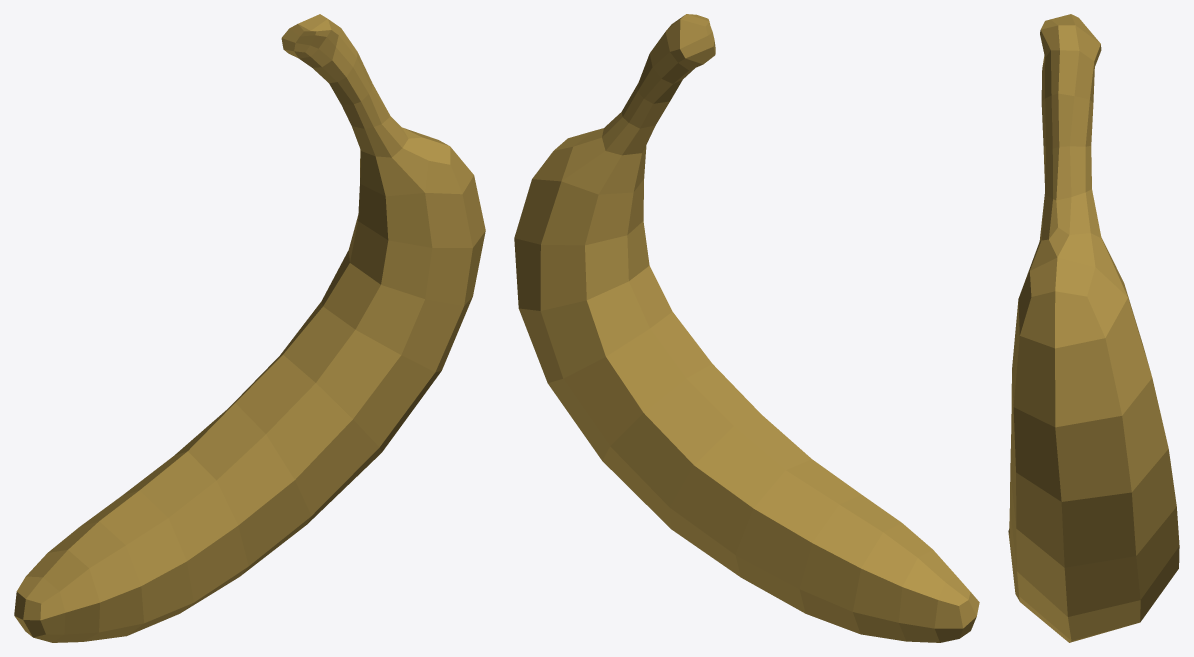
The model's file is quaternius-ultimate-food-banana.glb.
3 renders of one model, left to right at view 1: azimuth 30°, elevation 25°; view 2: azimuth 150°, elevation 25°; view 3: azimuth 270°, elevation 25°, orthographic. The views are drawn at different scales.
Visible parts, largest first — view 1: Banana; view 2: Banana; view 3: Banana.
Boxes of the visible parts, x1,y1,x2,y2 form: Banana: (14,14,485,642); Banana: (514,14,979,642); Banana: (1008,14,1179,642).
Size of the model in its own units: 1.18 by 1.4 by 0.3094.
